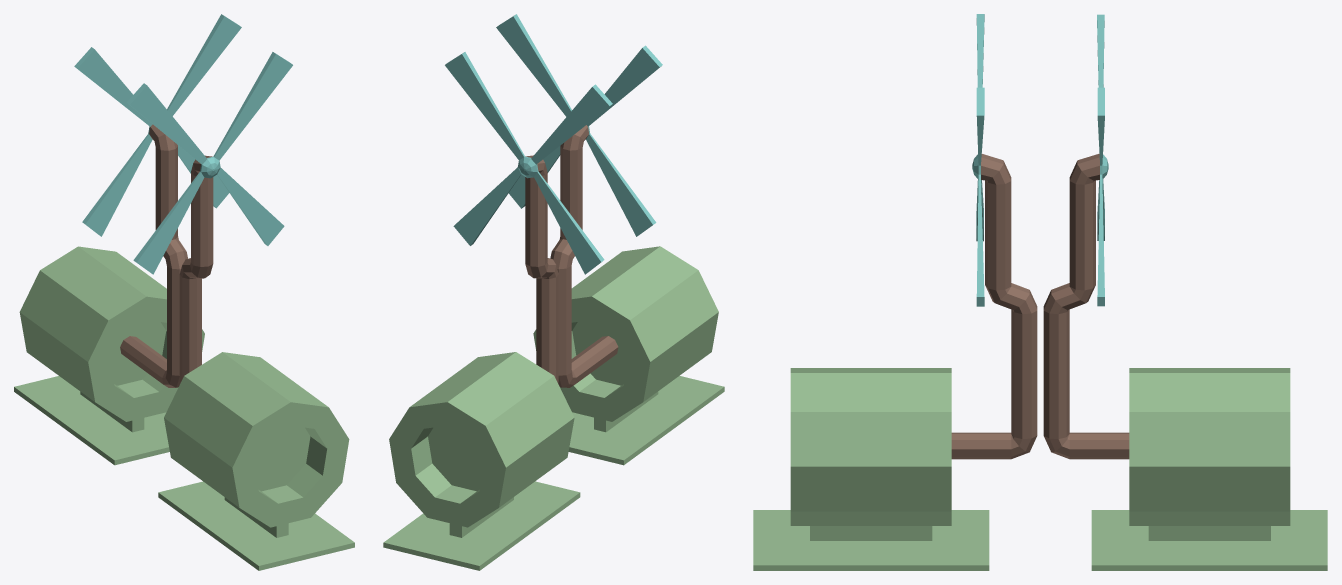
Rendered from level 2 generator.fbx.
The picture shows the model from 3 angles, left to right: view 1: azimuth 30°, elevation 25°; view 2: azimuth 150°, elevation 25°; view 3: azimuth 270°, elevation 25°; orthographic projection. The views are drawn at different scales.
Parts seen in each view (by area): view 1: Cylinder; view 2: Cylinder; view 3: Cylinder.
Boxes of the visible parts, box(x1,y1,x2,y2) form: Cylinder: box(14, 14, 354, 570); Cylinder: box(383, 14, 724, 570); Cylinder: box(753, 14, 1327, 570).
Bounding box in the file's own units: 77.75 × 189 × 200.
